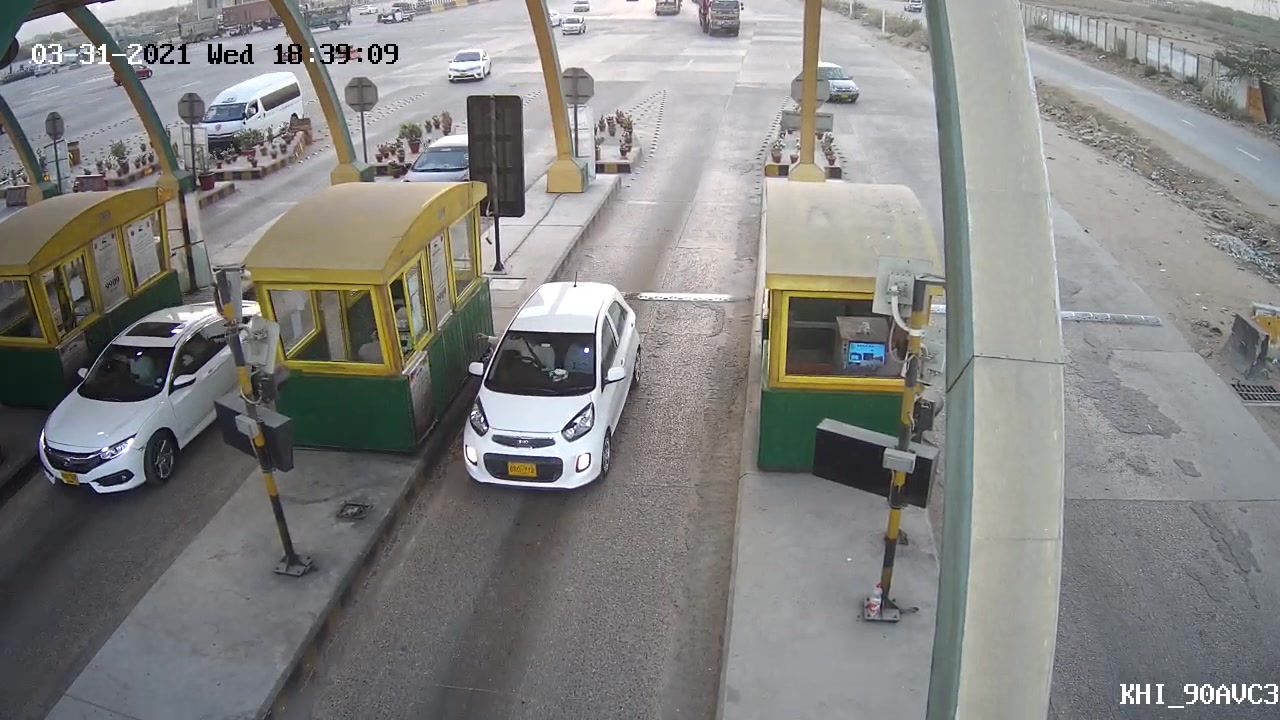F1: (456, 265, 648, 501)
